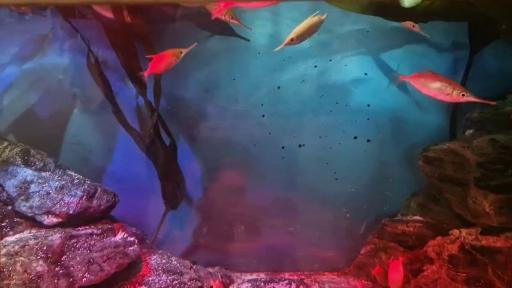Fish: (398, 69, 496, 104), (180, 7, 250, 41), (139, 43, 197, 82), (274, 11, 327, 51), (212, 0, 281, 19), (219, 8, 251, 30), (401, 21, 430, 37), (388, 257, 403, 287), (10, 6, 46, 17), (372, 265, 387, 287), (92, 5, 114, 19), (399, 0, 421, 7), (211, 280, 224, 287), (358, 280, 364, 287)
